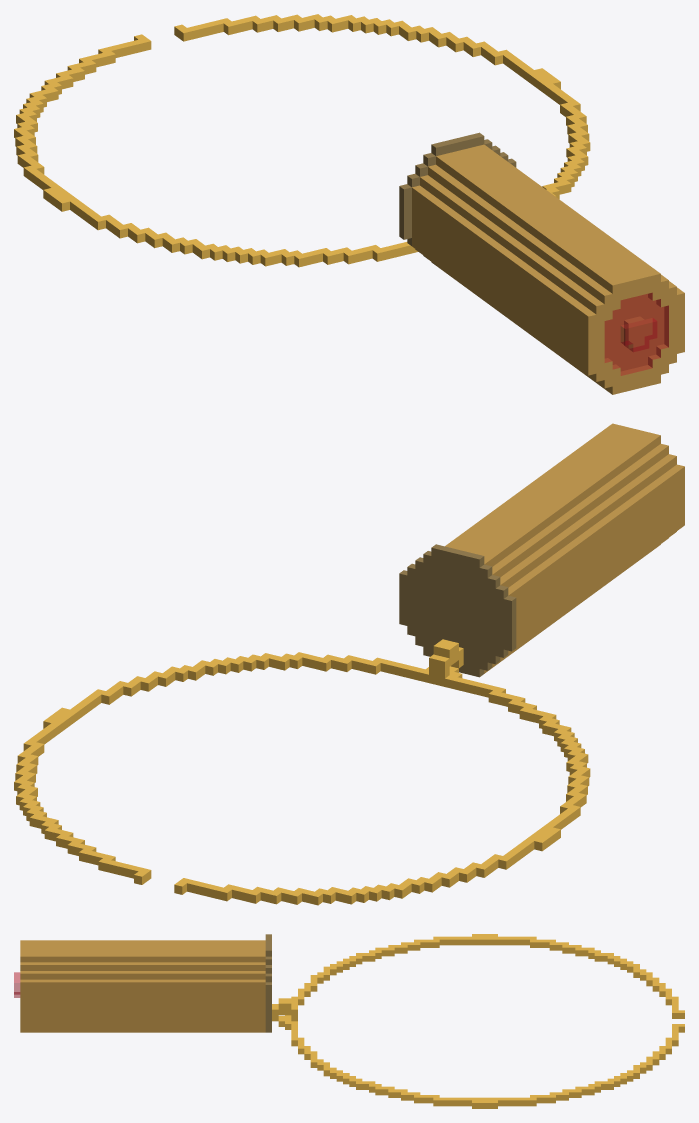
File: fancy_ordinance_cartridge_necklace.glb
3 views of the same model, one above another, from view 1: azimuth 30°, elevation 25°; view 2: azimuth 150°, elevation 25°; view 3: azimuth 270°, elevation 25° (orthographic). The views are drawn at different scales.
Visible parts, largest first — view 1: fancy_ordinance_cartridge_necklace:compound; view 2: fancy_ordinance_cartridge_necklace:compound; view 3: fancy_ordinance_cartridge_necklace:compound.
Part boxes in pixels (x1,y1,x2,y2): fancy_ordinance_cartridge_necklace:compound: [14, 14, 684, 394]; fancy_ordinance_cartridge_necklace:compound: [14, 423, 684, 905]; fancy_ordinance_cartridge_necklace:compound: [14, 934, 684, 1108].
Size of the model in its own units: 0.124 by 0.028 by 0.208.
